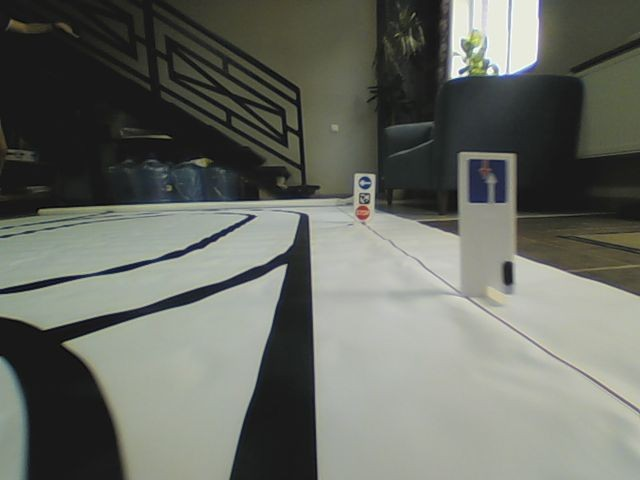Stop: (354, 204, 370, 221)
priority_movement: (467, 157, 506, 203)
